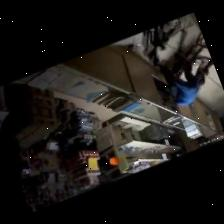person: (159, 58, 212, 105)
